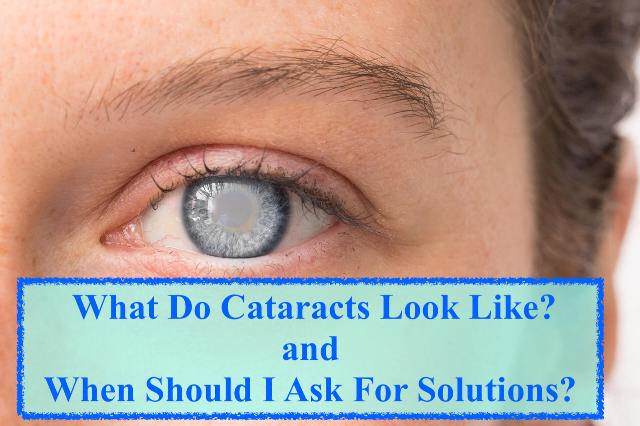eye: (185, 175, 291, 261)
